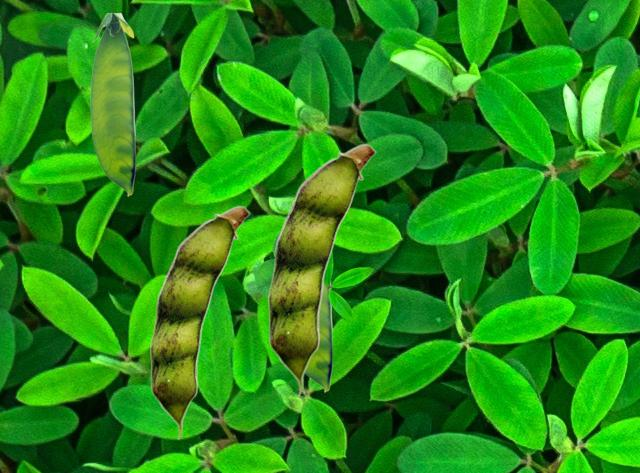pea: (268, 143, 375, 396), (150, 205, 249, 439), (90, 13, 134, 195), (305, 281, 331, 391)
